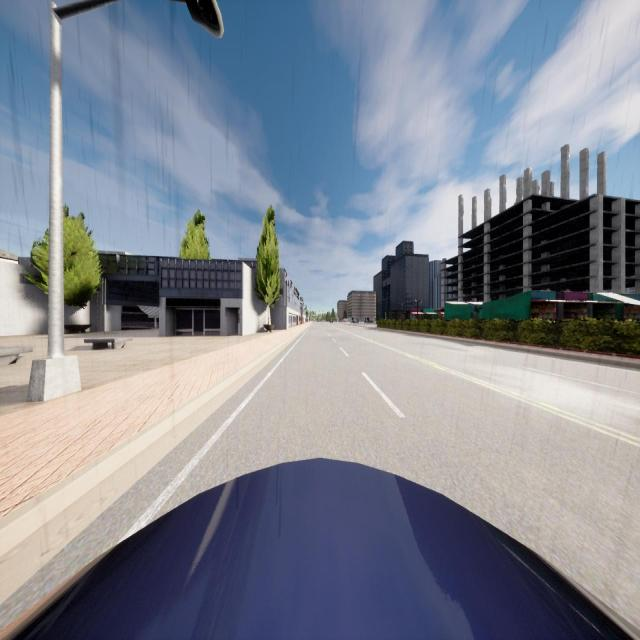Vehicle: (4, 454, 640, 640), (364, 317, 374, 323), (350, 318, 360, 323), (330, 319, 333, 323)
